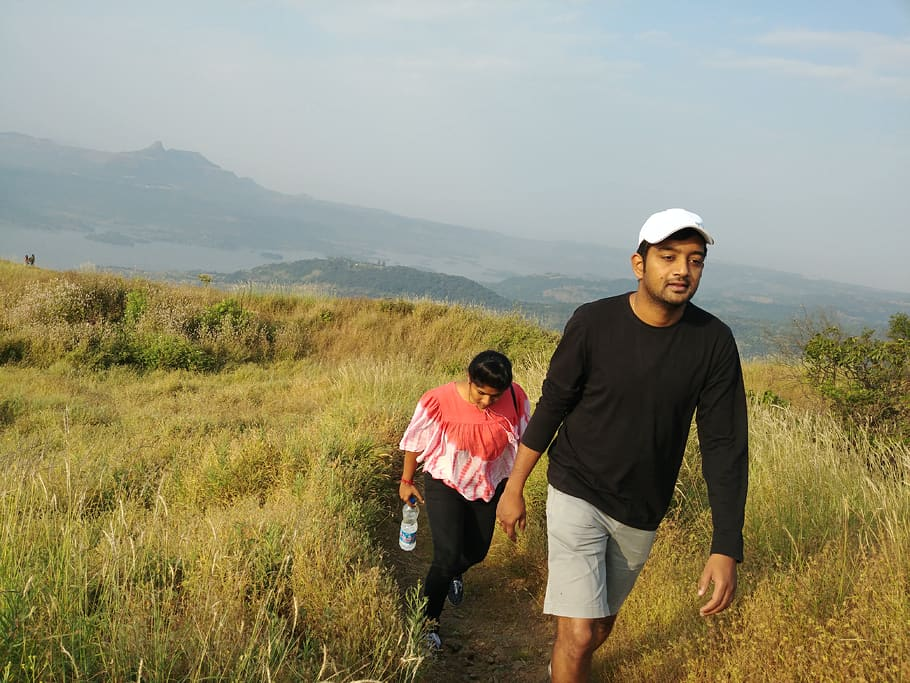person: (641, 212, 712, 313), (469, 351, 515, 413)
